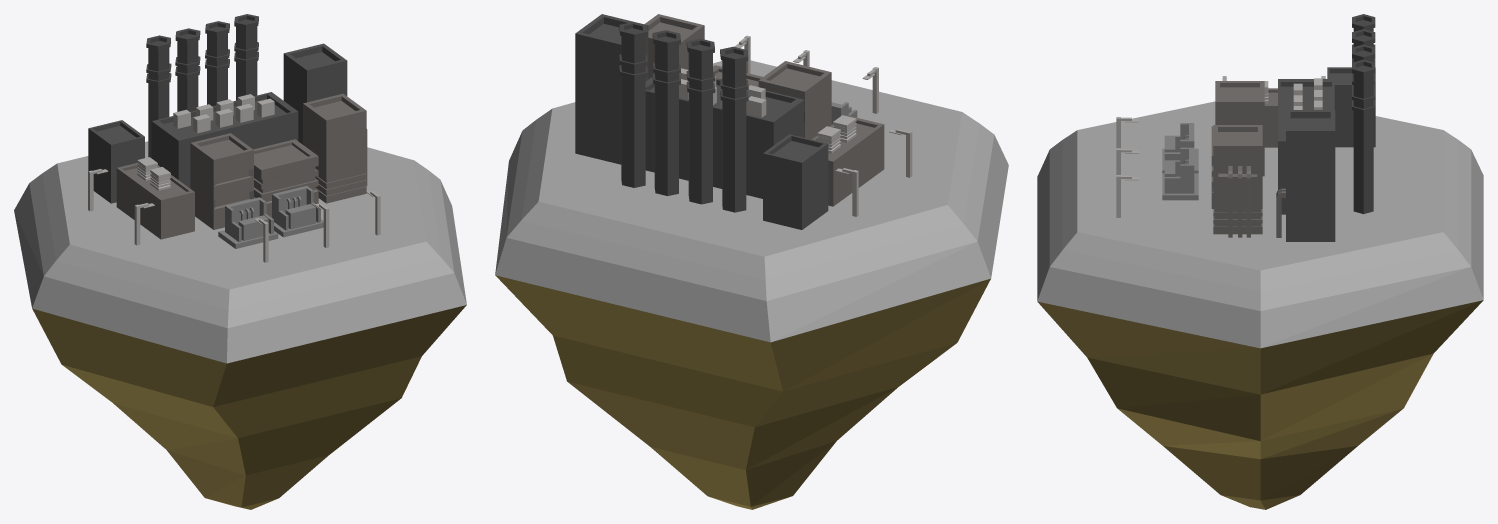
File: Factory_V3.fbx
3 views of the same model, side by side, from view 1: azimuth 30°, elevation 25°; view 2: azimuth 150°, elevation 25°; view 3: azimuth 270°, elevation 25° (orthographic). The views are drawn at different scales.
Visible parts, largest first — view 1: polySurface62; view 2: polySurface62; view 3: polySurface62.
Boxes of the visible parts, x1,y1,x2,y2 form: polySurface62: [14, 14, 466, 509]; polySurface62: [495, 14, 1008, 509]; polySurface62: [1037, 14, 1483, 509].
Bounding box in the file's own units: 11.53 × 11.52 × 9.99.
